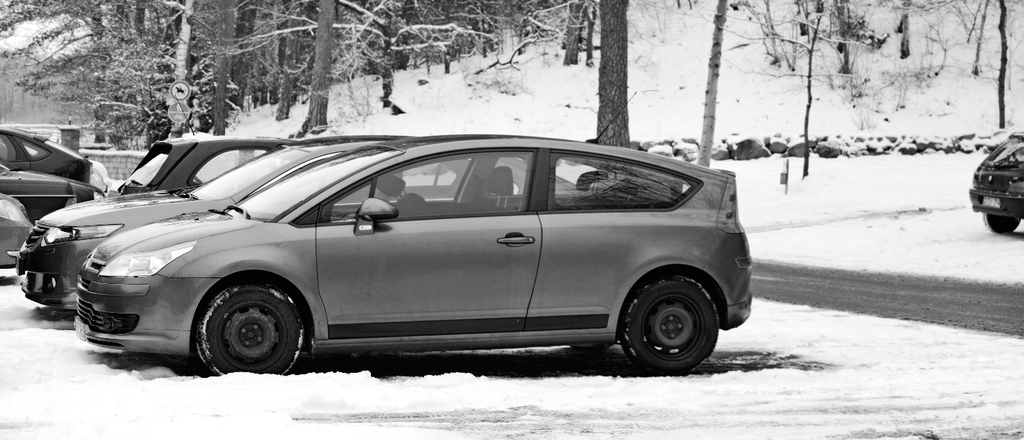person: (555, 169, 679, 208)
